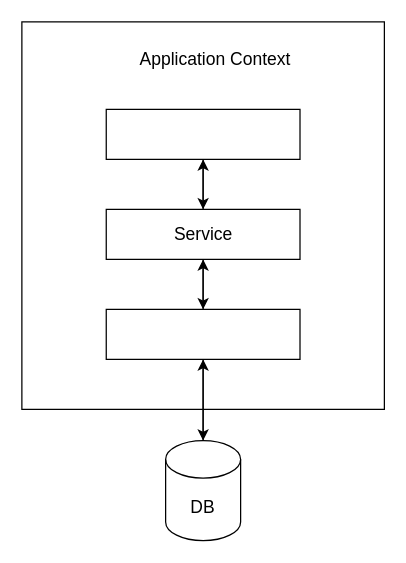
This 406x563 diagram has some shape labels left out. The centre of each missing label's shape, as x and y in pixels:
"Controller" goes at point (202, 133).
"Repository" goes at point (202, 333).
